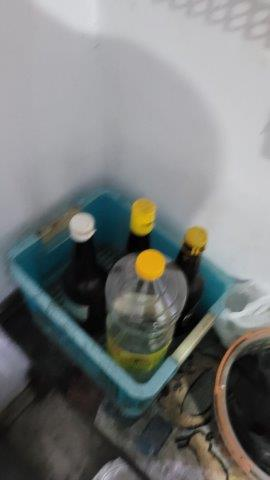botolkaca: (62, 197, 208, 335)
